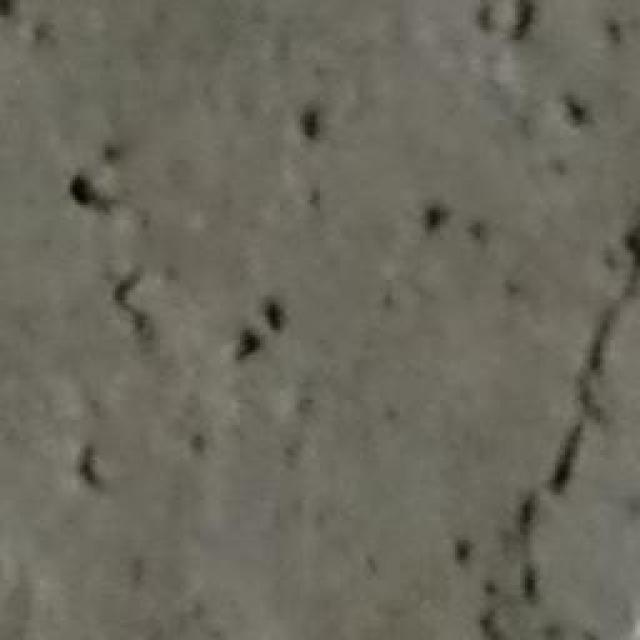Diagonal: (461, 236, 640, 640)
